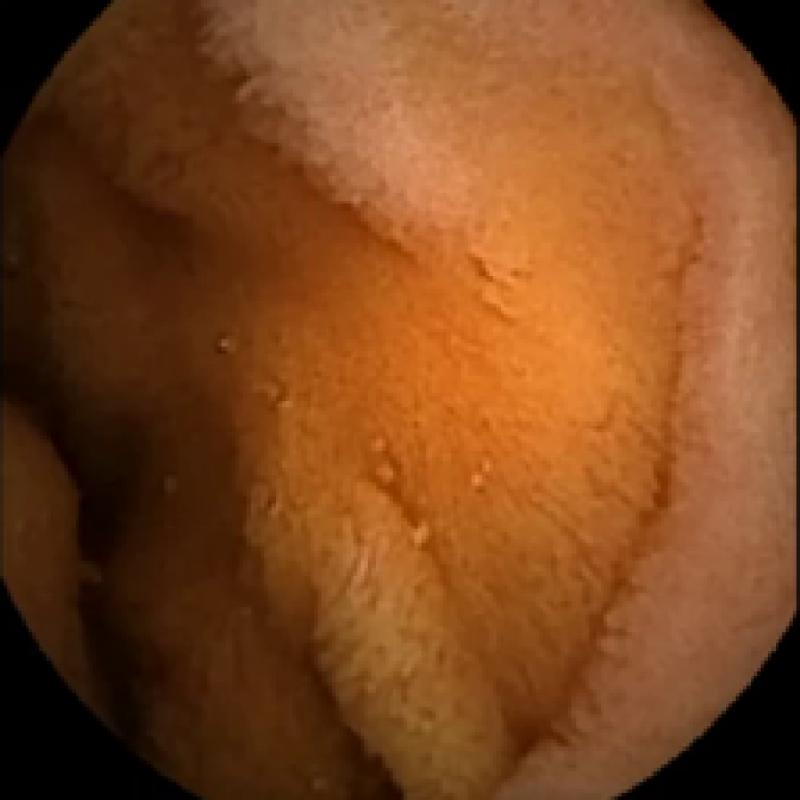bleeding: (3, 321, 186, 725)
